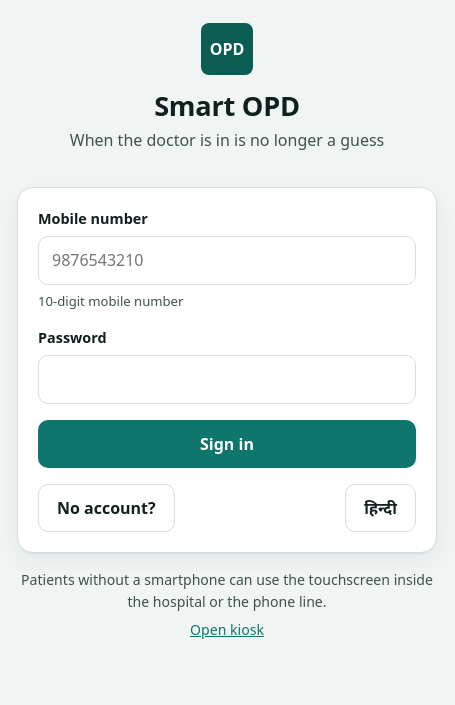
registration › switches to the register form and asks for a name
This screenshot has width=455, height=705.
Click the button "No account?" at (106, 508), box top-left (38, 484), bottom-right (175, 532)
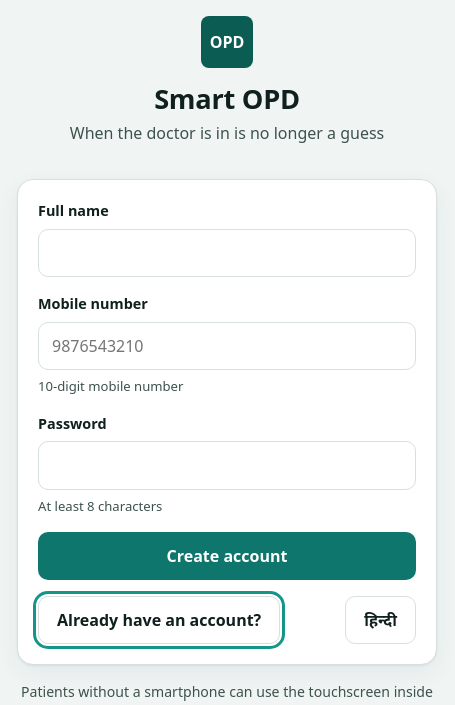
Now the field labelled "Full name" is shown, box top-left (38, 228), bottom-right (416, 277)
Now the button "Create account" is shown, box top-left (38, 532), bottom-right (416, 580)
